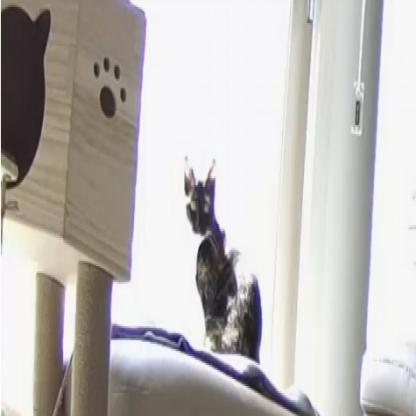cat: (183, 152, 268, 366)
